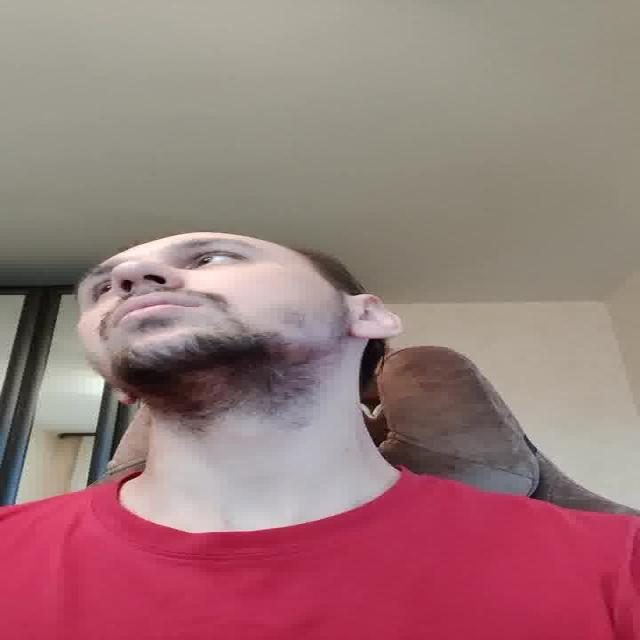earlobe: (351, 294, 404, 340)
